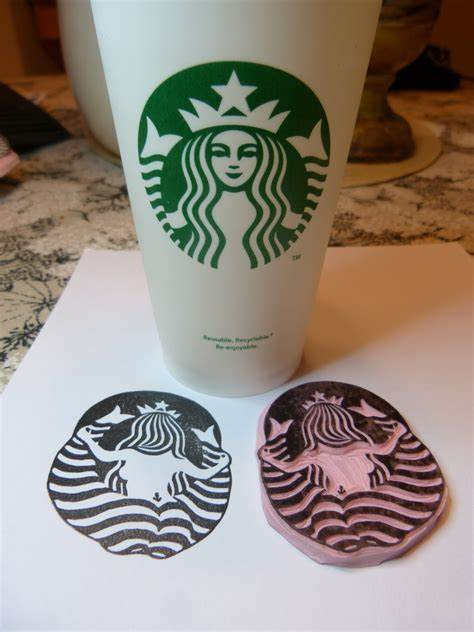starbucks Originale: (133, 55, 335, 273)
